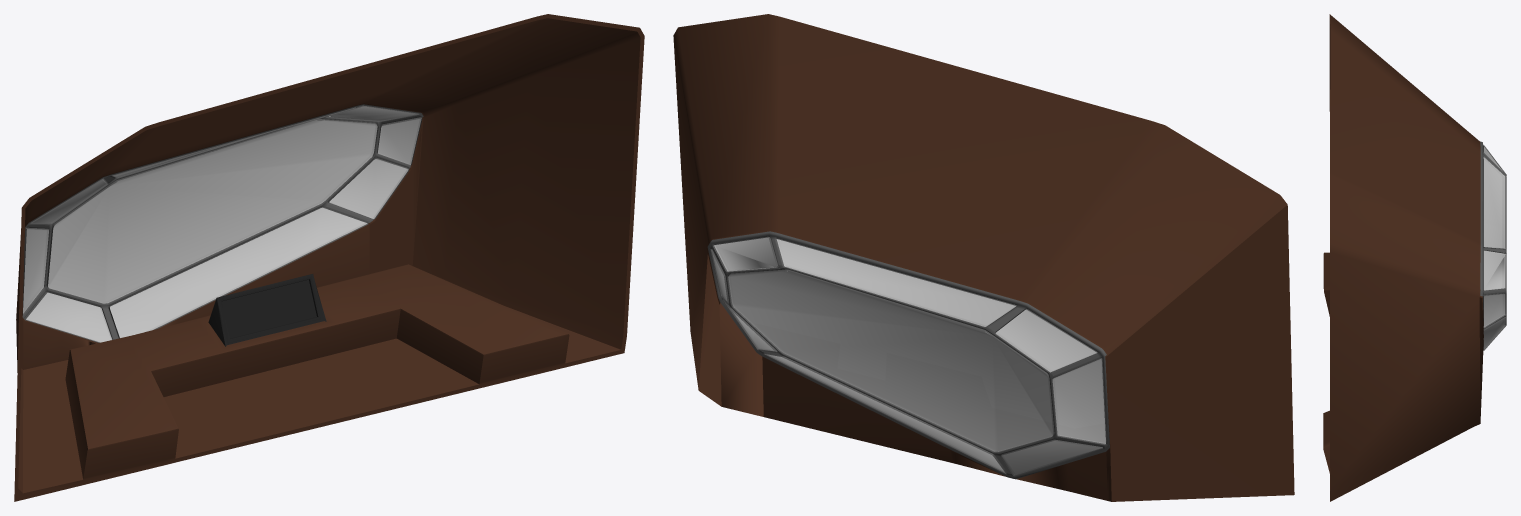
The model's file is CockPit_UV_Mapped.fbx.
3 views of the same model, side by side, from view 1: azimuth 30°, elevation 25°; view 2: azimuth 150°, elevation 25°; view 3: azimuth 270°, elevation 25° (orthographic). The views are drawn at different scales.
Visible parts, largest first — view 1: CP_Inside_hull; view 2: CP_Inside_hull; view 3: CP_Inside_hull.
Part boxes in pixels (x1,y1,x2,y2): CP_Inside_hull: (14, 14, 644, 501); CP_Inside_hull: (673, 14, 1294, 501); CP_Inside_hull: (1323, 14, 1506, 501).
Bounding box in the file's own units: 432 × 234 × 132.
